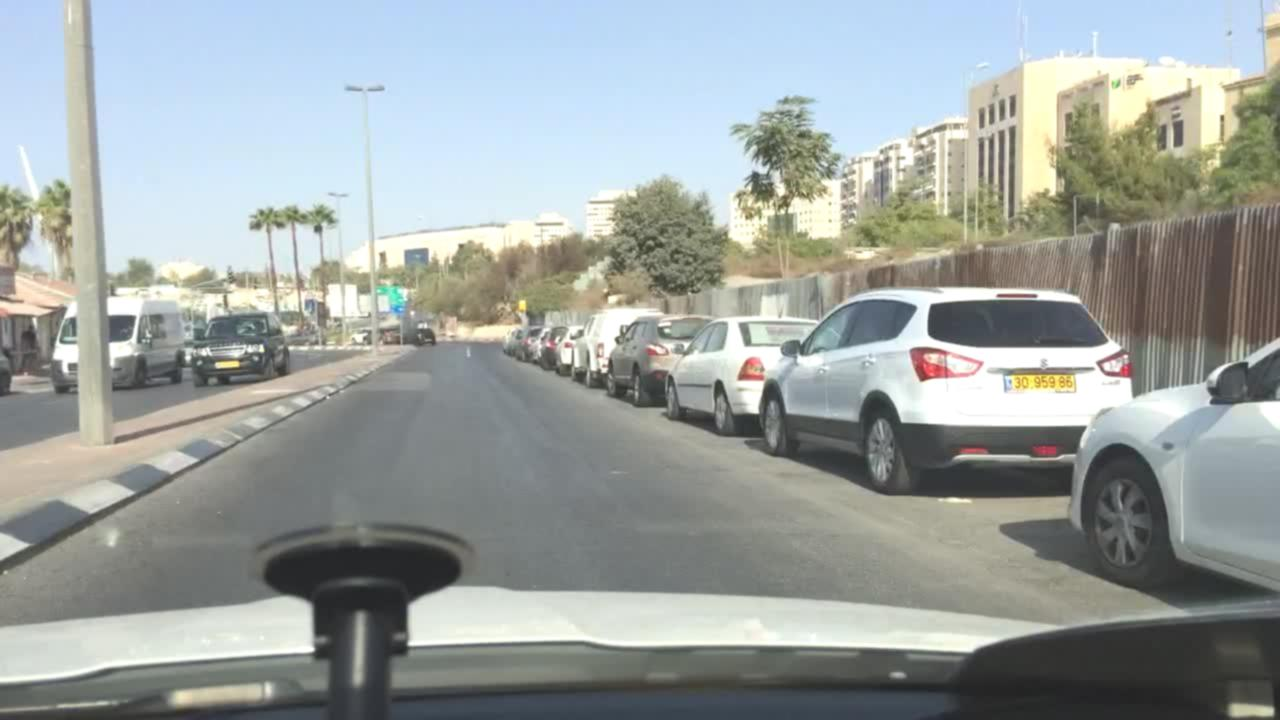suzuki: (1034, 349, 1054, 377)
